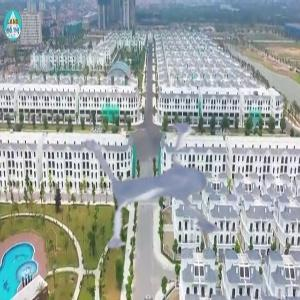drone: (57, 76, 280, 299)
